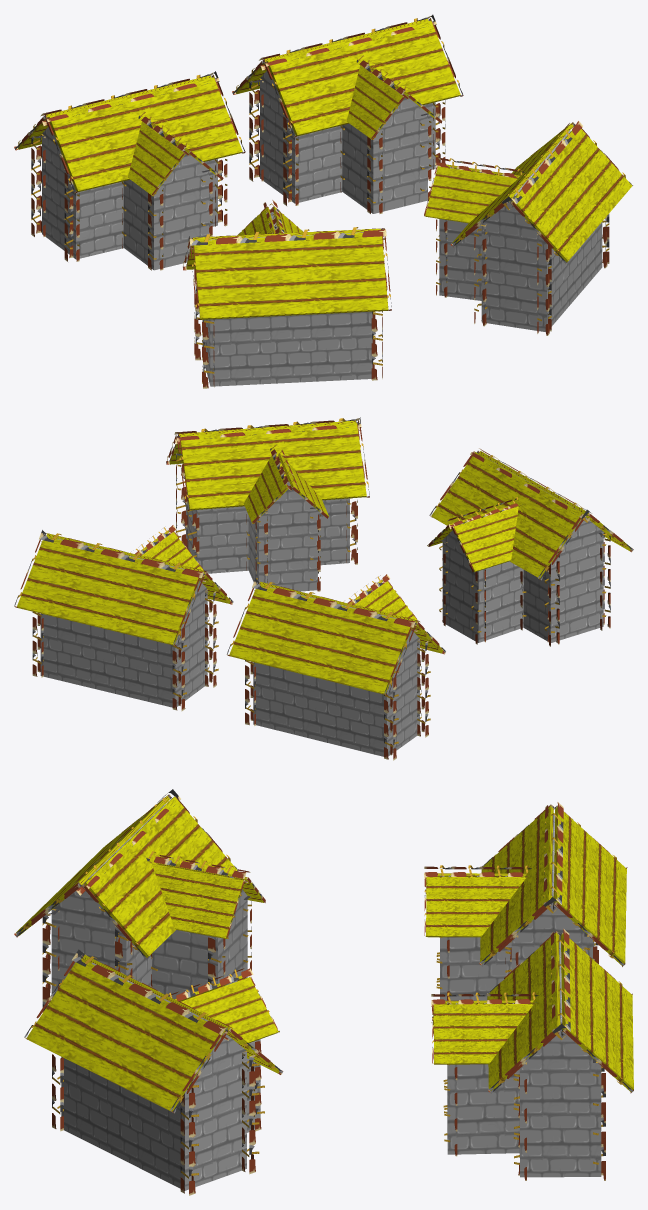
File: CityEra1.fbx
The picture shows the model from 3 angles, top to bottom: view 1: azimuth 30°, elevation 25°; view 2: azimuth 150°, elevation 25°; view 3: azimuth 270°, elevation 25°; orthographic projection. The views are drawn at different scales.
Parts seen in each view (by area): view 1: House, House.001, House.003, House.002; view 2: House, House.001, House.002, House.003; view 3: House.002, House, House.003, House.001.
Part boxes in pixels (<box>): House: <box>232,14,463,213</box>; House.001: <box>14,71,245,270</box>; House.003: <box>183,200,391,388</box>; House.002: <box>424,121,632,335</box>; House: <box>14,525,233,711</box>; House.001: <box>226,574,445,760</box>; House.002: <box>166,417,369,591</box>; House.003: <box>427,448,633,646</box>; House.002: <box>24,949,283,1195</box>; House: <box>431,928,633,1180</box>; House.003: <box>14,789,265,1012</box>; House.001: <box>424,802,627,1000</box>.
Size of the model in its own units: 927 by 263 by 910.
